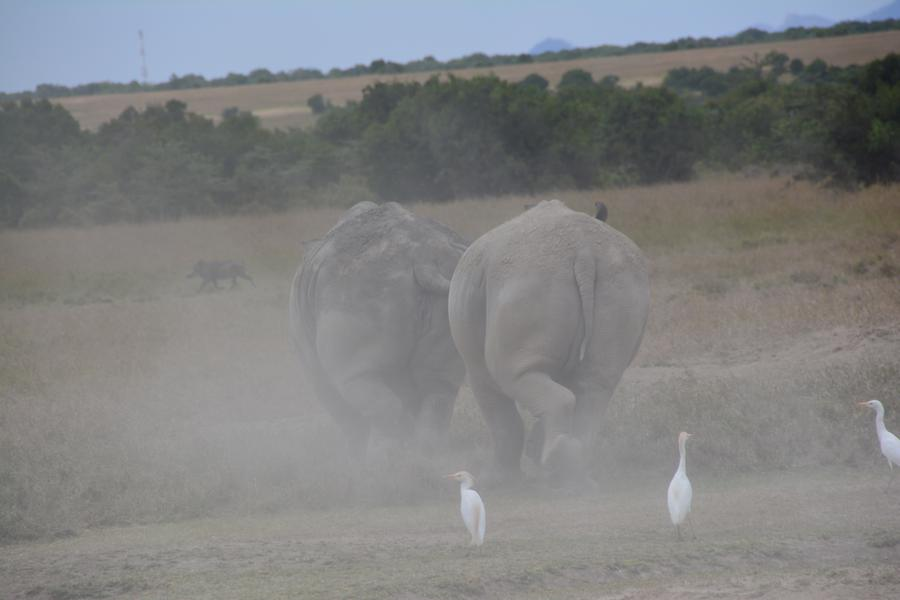rhino: (465, 202, 647, 470), (308, 202, 461, 450)
